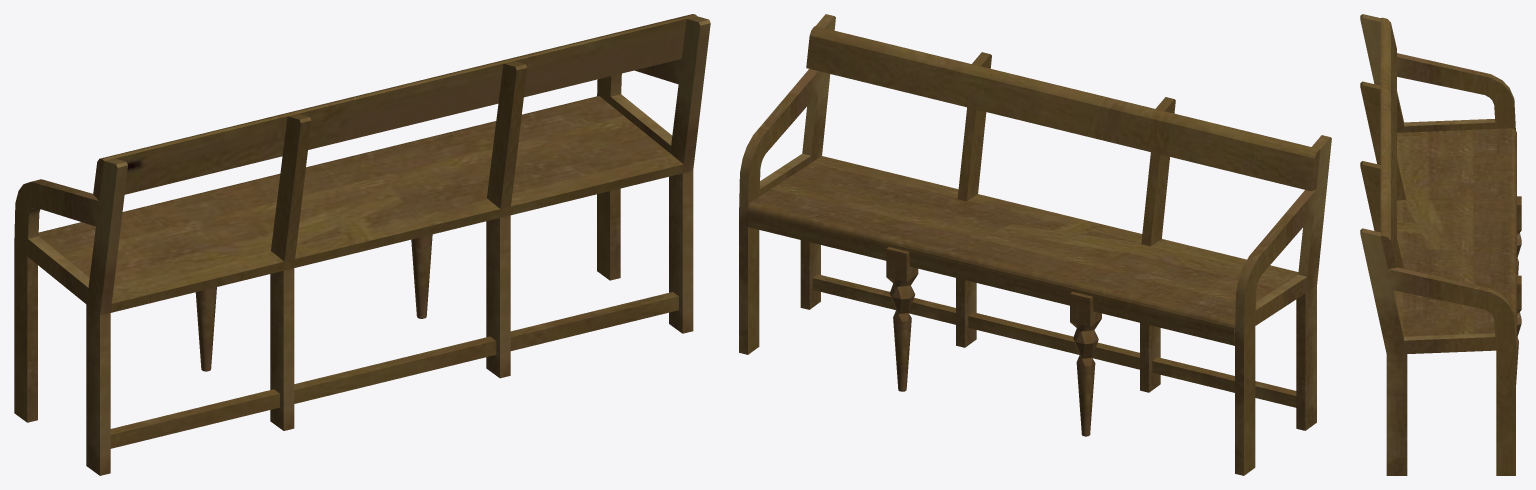
File: Rue_Banc.obj
3 renders of one model, left to right at view 1: azimuth 30°, elevation 25°; view 2: azimuth 150°, elevation 25°; view 3: azimuth 270°, elevation 25°, orthographic. The views are drawn at different scales.
Visible parts, largest first — view 1: Rue_Banc; view 2: Rue_Banc; view 3: Rue_Banc.
Boxes of the visible parts, x1=… form: Rue_Banc: x1=14, y1=14, x2=710, y2=475; Rue_Banc: x1=739, y1=14, x2=1331, y2=475; Rue_Banc: x1=1360, y1=14, x2=1521, y2=475.
Bounding box in the file's own units: 1.35 × 0.7042 × 0.4222.
Materials: 1 (1 with a texture image).
